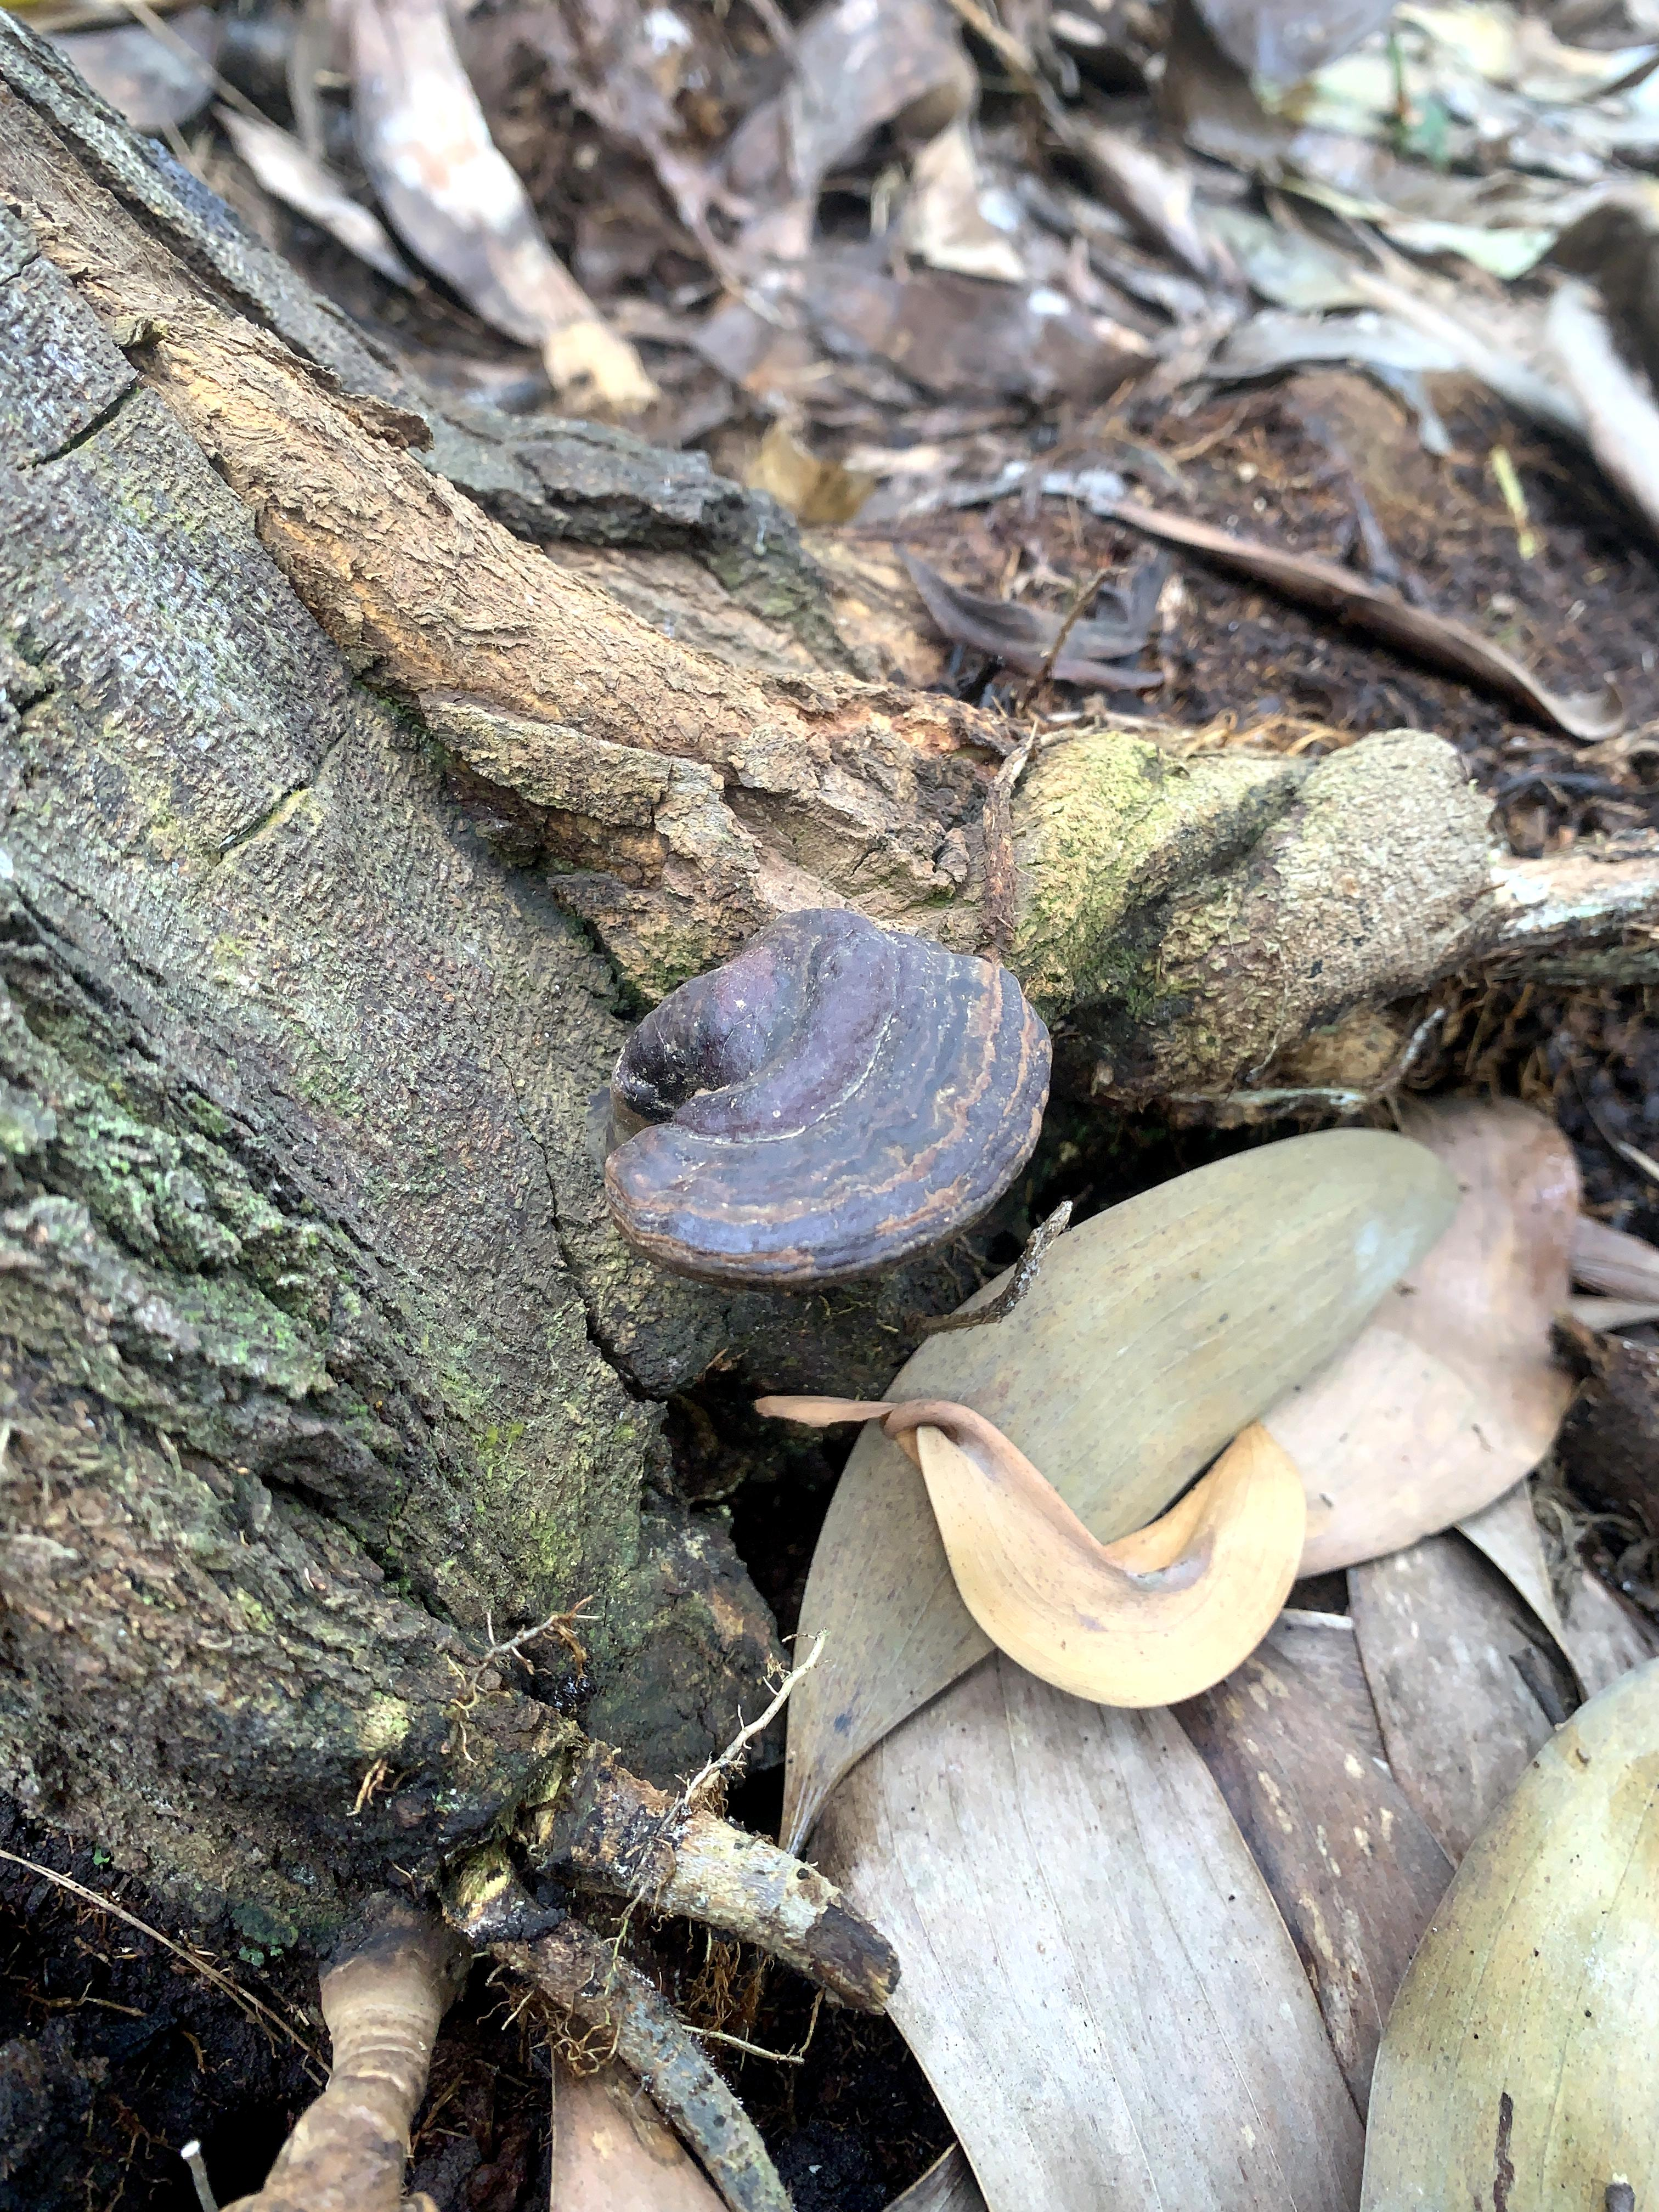Ganoderma - Fruit Body: (582, 873, 1077, 1332)
